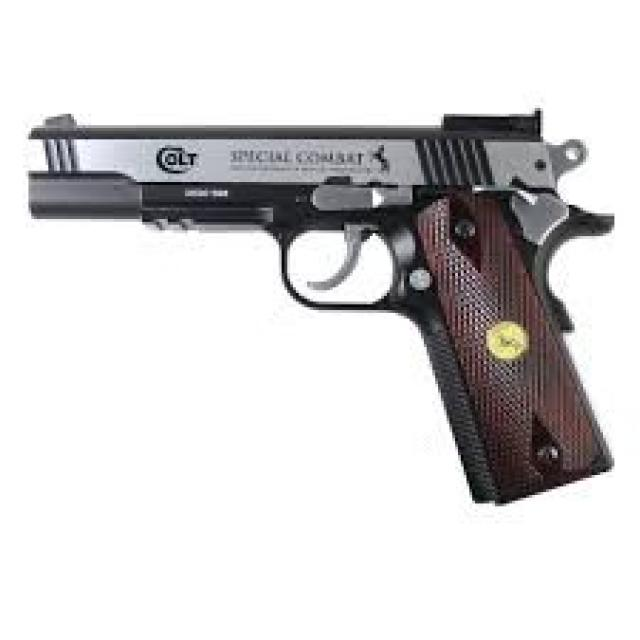pistol: (14, 102, 619, 515)
